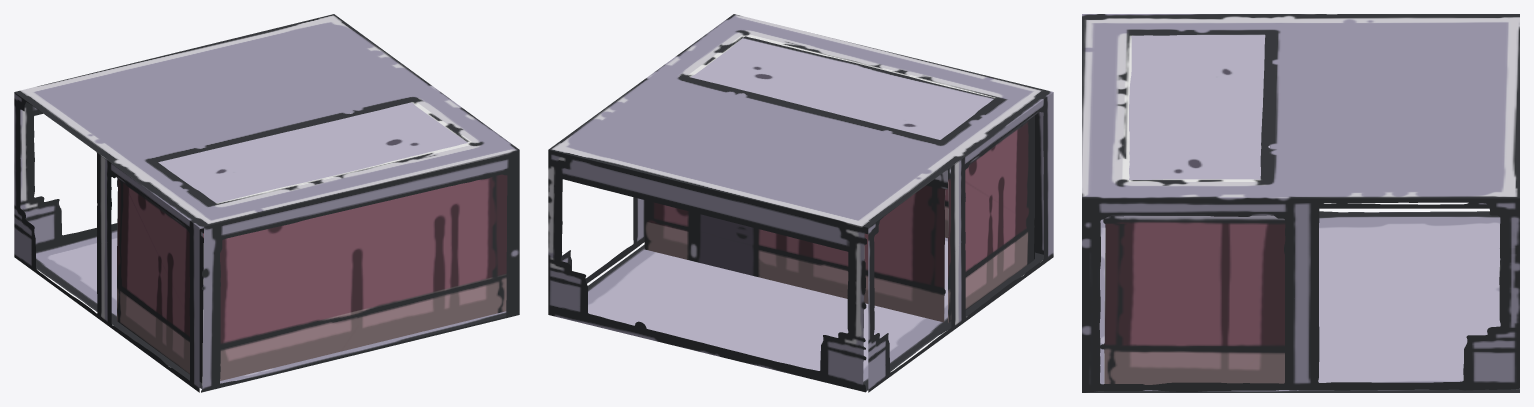
Rendered from house_A.obj.
The picture shows the model from 3 angles, left to right: view 1: azimuth 30°, elevation 25°; view 2: azimuth 150°, elevation 25°; view 3: azimuth 270°, elevation 25°; orthographic projection. The views are drawn at different scales.
Visible parts, largest first — view 1: Cube.001_Cube.002, Cube_Cube.001; view 2: Cube.001_Cube.002, Cube_Cube.001; view 3: Cube.001_Cube.002, Cube_Cube.001.
Part boxes in pixels (bbox=[...]): Cube.001_Cube.002: bbox=[14, 14, 519, 392]; Cube_Cube.001: bbox=[117, 102, 507, 382]; Cube.001_Cube.002: bbox=[548, 14, 1053, 392]; Cube_Cube.001: bbox=[644, 36, 1034, 322]; Cube.001_Cube.002: bbox=[1082, 14, 1519, 392]; Cube_Cube.001: bbox=[1100, 34, 1285, 389].
Size of the model in its own units: 4.23 by 2.11 by 4.25.
